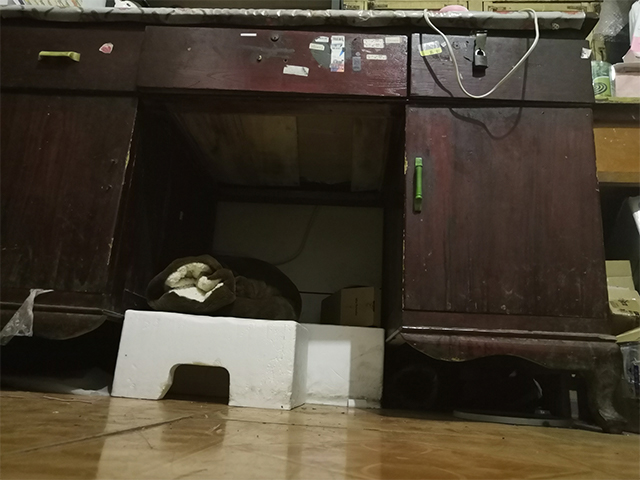cabinet: (1, 1, 624, 434)
